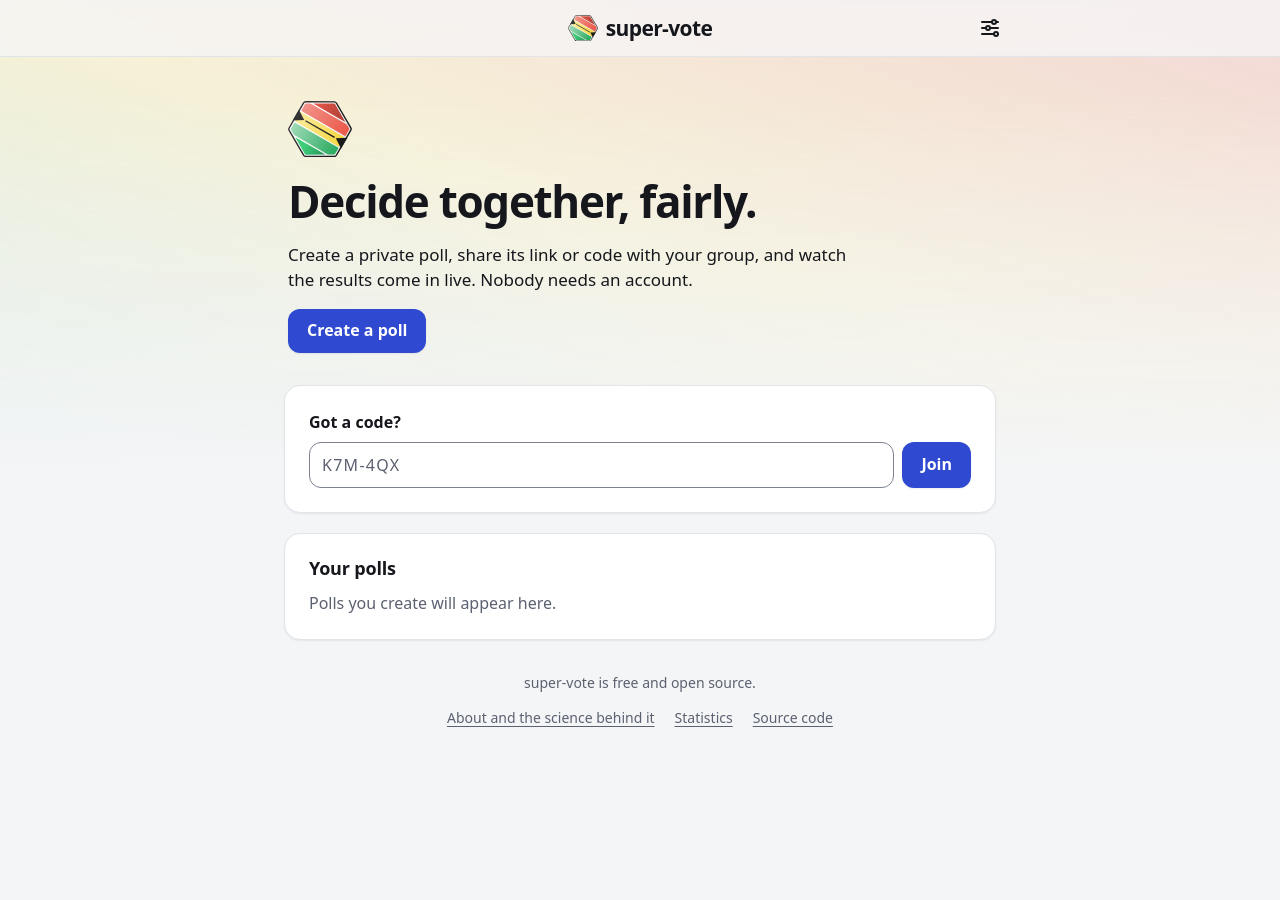
Test: the settings › change how the app looks and votes, at once
Click the button named "Settings" at {"x": 990, "y": 28}, box [968,6,1012,50]
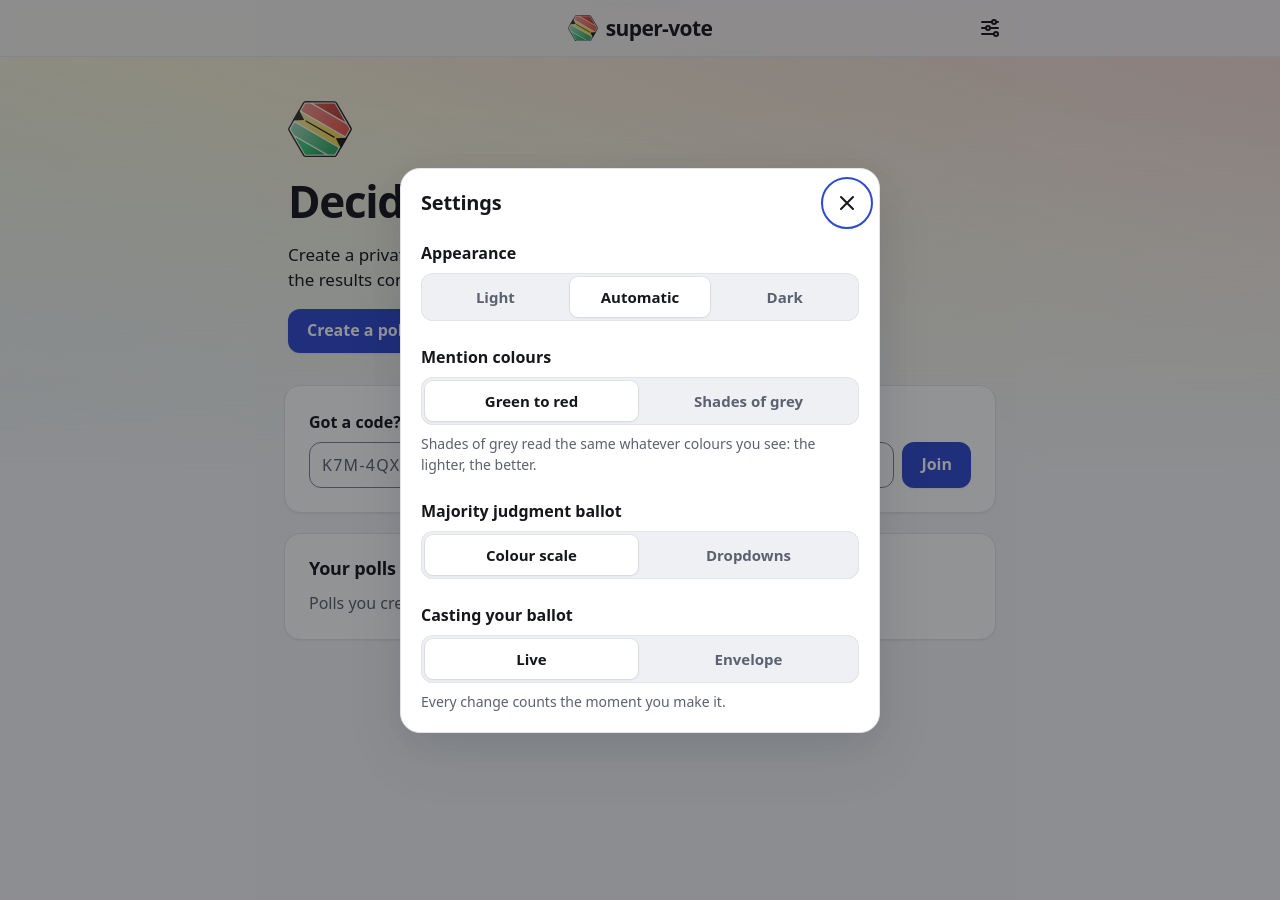
Click the radio button labelled "Dark" at {"x": 785, "y": 296}, box [766,286,803,306]
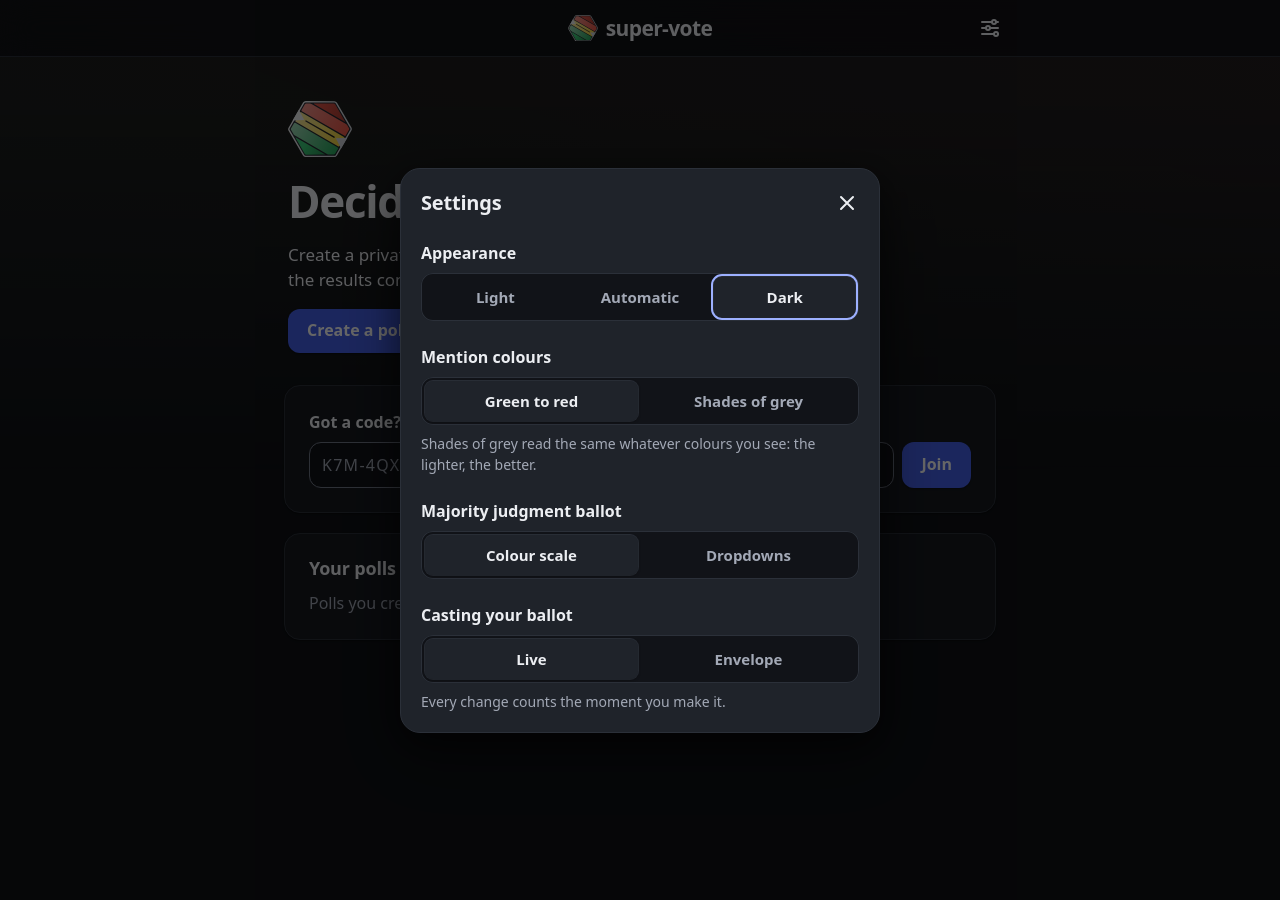
Click the radio button labelled "Shades of grey" at {"x": 748, "y": 400}, box [694,390,803,410]
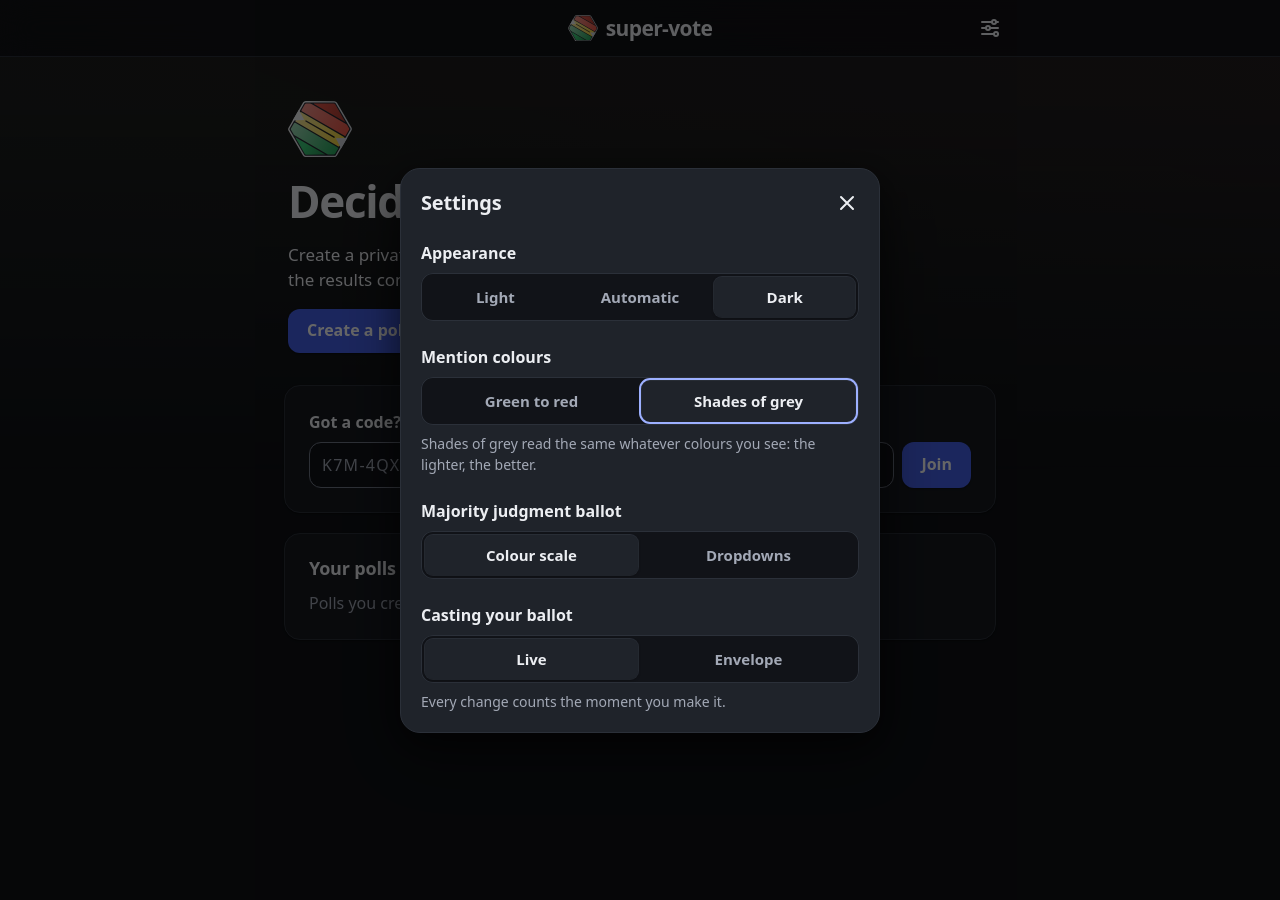
Click the radio button labelled "Envelope" at {"x": 748, "y": 658}, box [714,648,782,668]
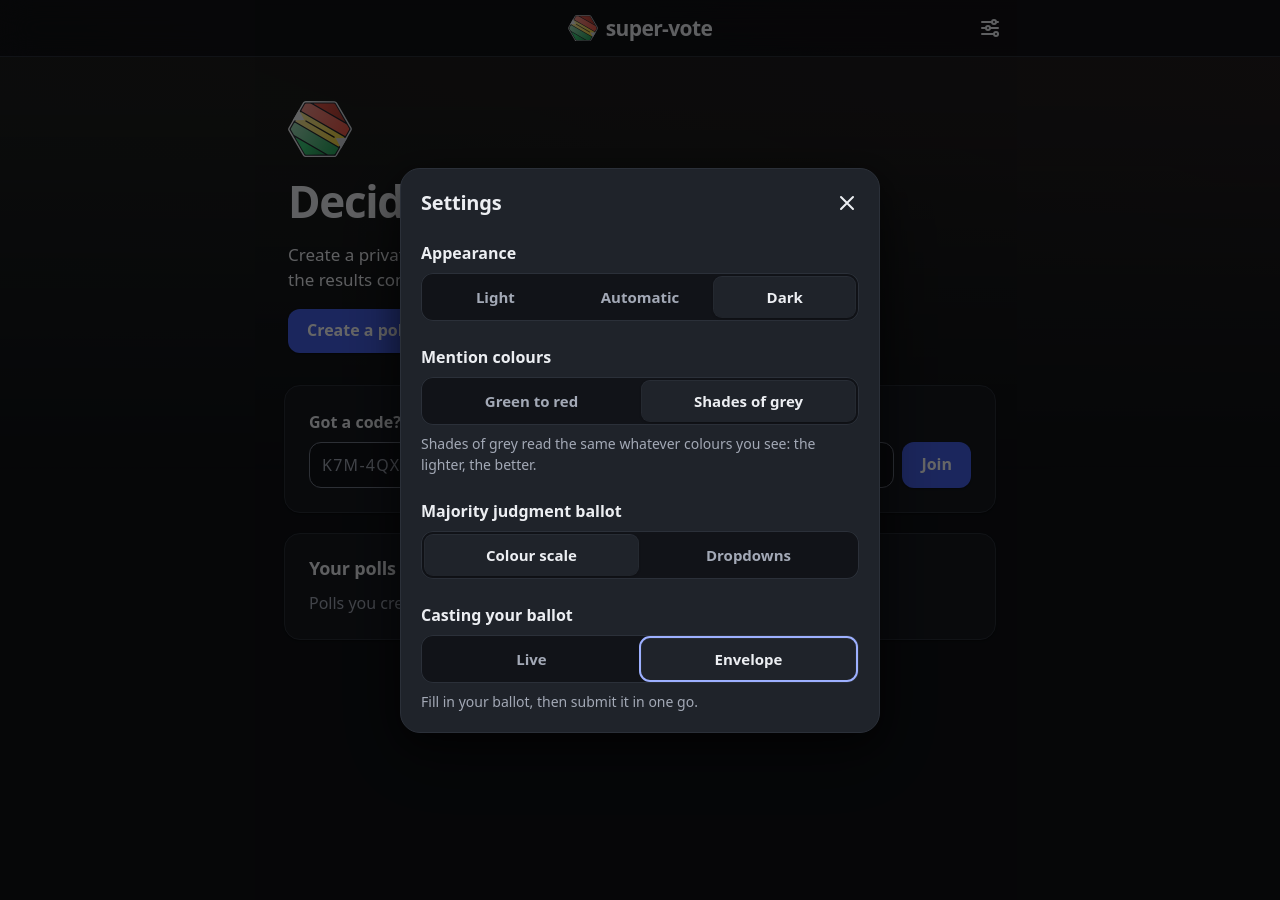
Check: the text "Fill in your ballot, then submit it in one go." is shown, box [421,692,698,710]
